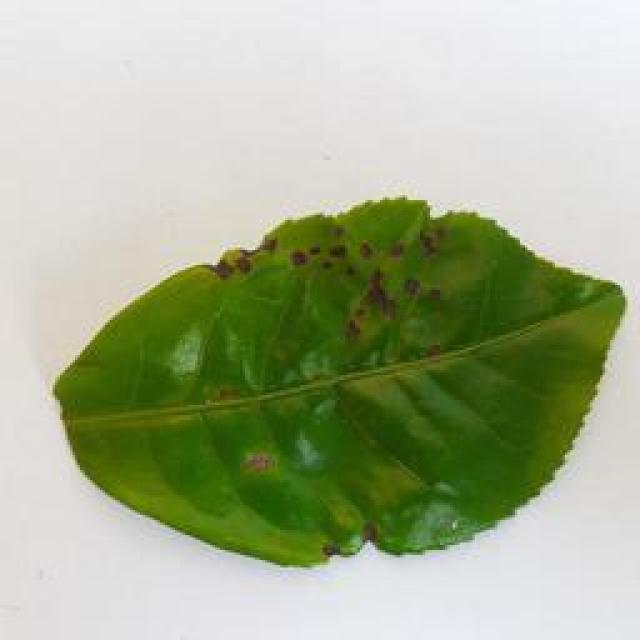Helopeltis: (56, 179, 640, 564)
